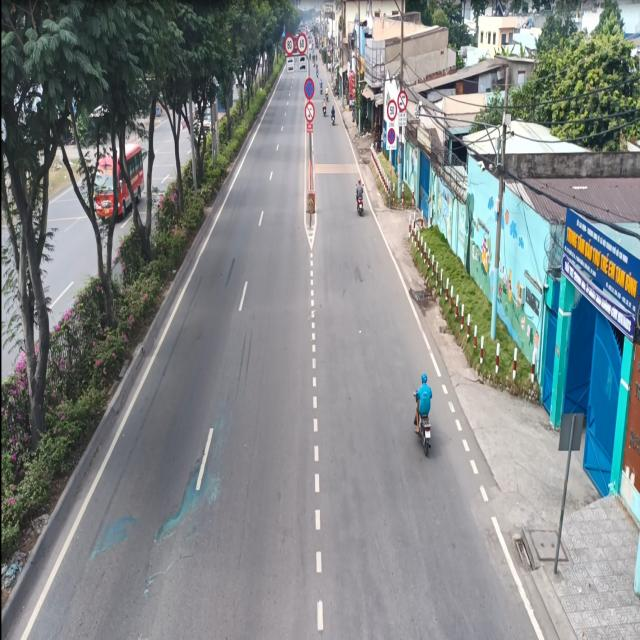motorbike: (414, 371, 437, 455), (354, 177, 371, 220)
